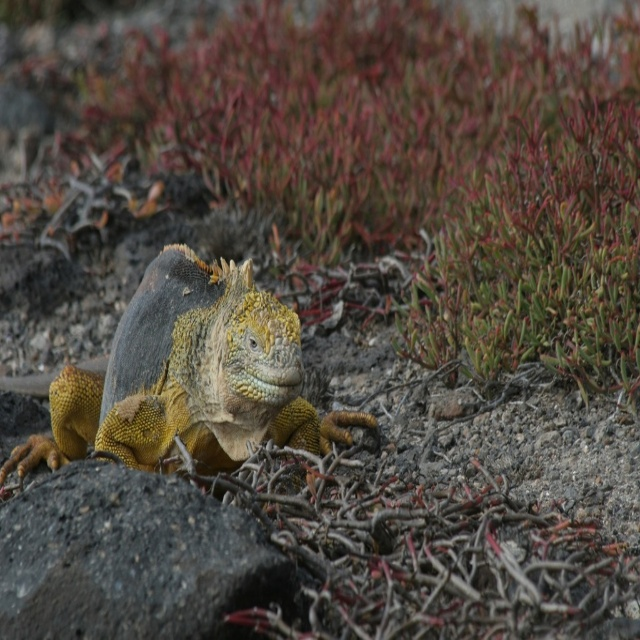Lizard: (0, 244, 381, 488)
